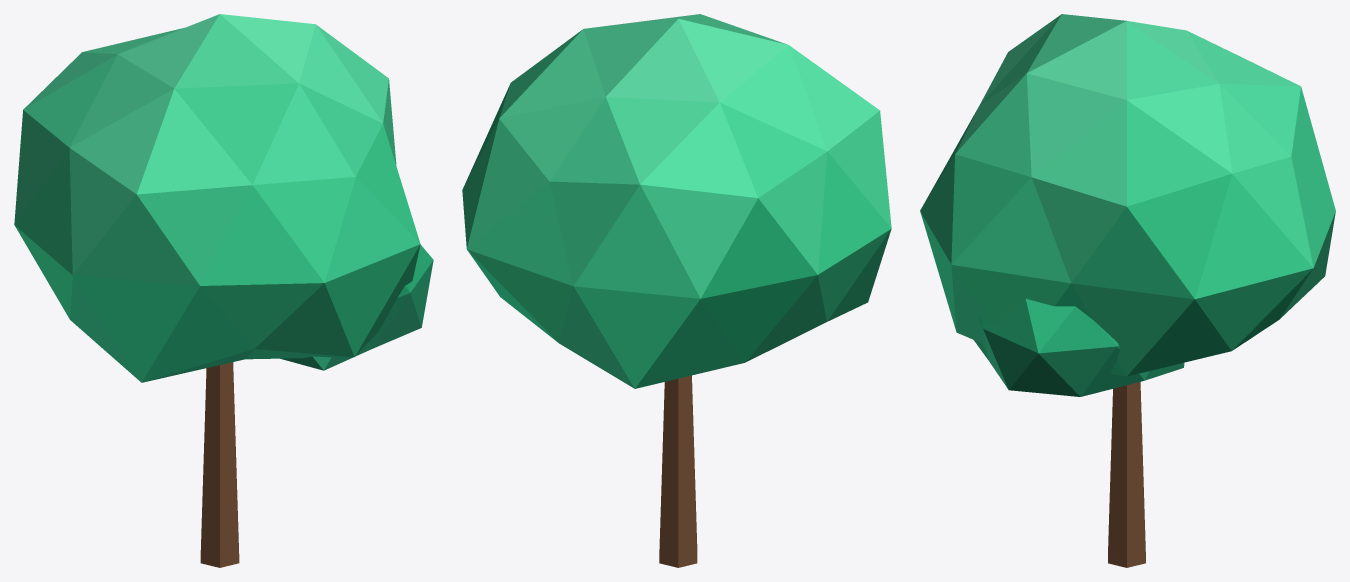
The model's file is tree-a.glb.
3 renders of one model, left to right at view 1: azimuth 30°, elevation 25°; view 2: azimuth 150°, elevation 25°; view 3: azimuth 270°, elevation 25°, orthographic.
Visible parts, largest first — view 1: tree-a; view 2: tree-a; view 3: tree-a.
Part boxes in pixels (x1,y1,x2,y2): tree-a: (14, 14, 433, 567); tree-a: (462, 14, 891, 567); tree-a: (920, 14, 1335, 567).
Size of the model in its own units: 4.93 by 7.04 by 4.93.
1 material, 1 textured.
